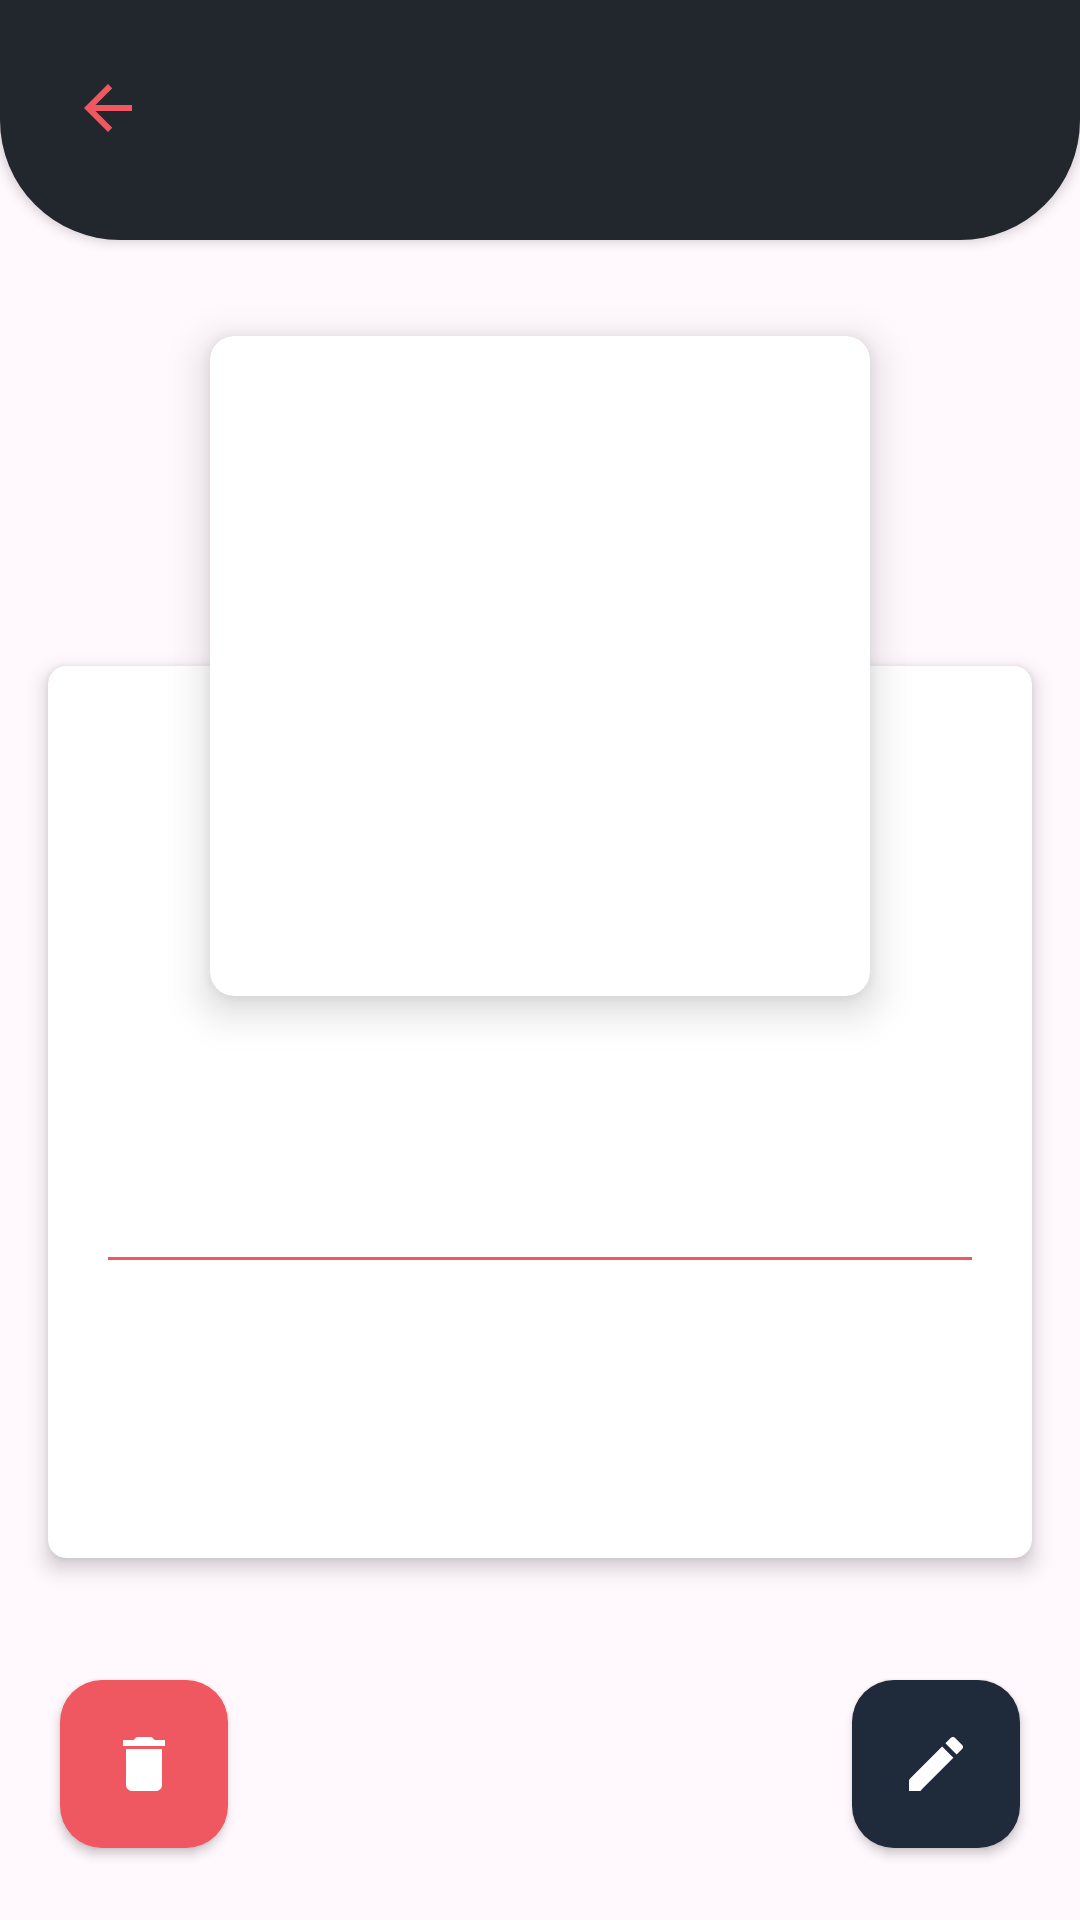

Locate icon controls on the screen. Image size 1080×1920, boxes as {"x1": x1, "y1": y1, "x2": x2, "y2": y2}.
Editar cita: {"x1": 852, "y1": 1680, "x2": 1020, "y2": 1848}
Eliminar cita: {"x1": 60, "y1": 1680, "x2": 228, "y2": 1848}
Volver: {"x1": 84, "y1": 84, "x2": 132, "y2": 132}
